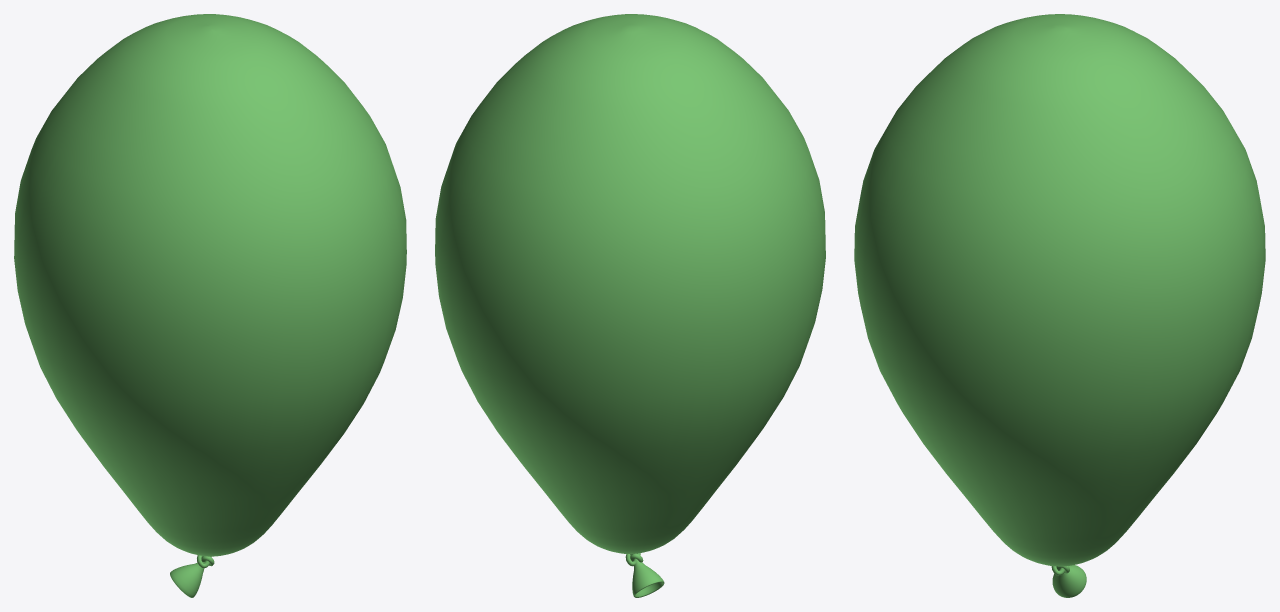
File: Anagram Satin Luxe Palm Leaf.glb
The picture shows the model from 3 angles, left to right: view 1: azimuth 30°, elevation 25°; view 2: azimuth 150°, elevation 25°; view 3: azimuth 270°, elevation 25°; orthographic projection. The views are drawn at different scales.
Visible parts, largest first — view 1: Balloon Green; view 2: Balloon Green; view 3: Balloon Green.
Boxes of the visible parts, x1,y1,x2,y2 form: Balloon Green: (14, 14, 406, 597); Balloon Green: (435, 14, 825, 597); Balloon Green: (854, 14, 1265, 597).
Size of the model in its own units: 0.3 by 0.48 by 0.31.
